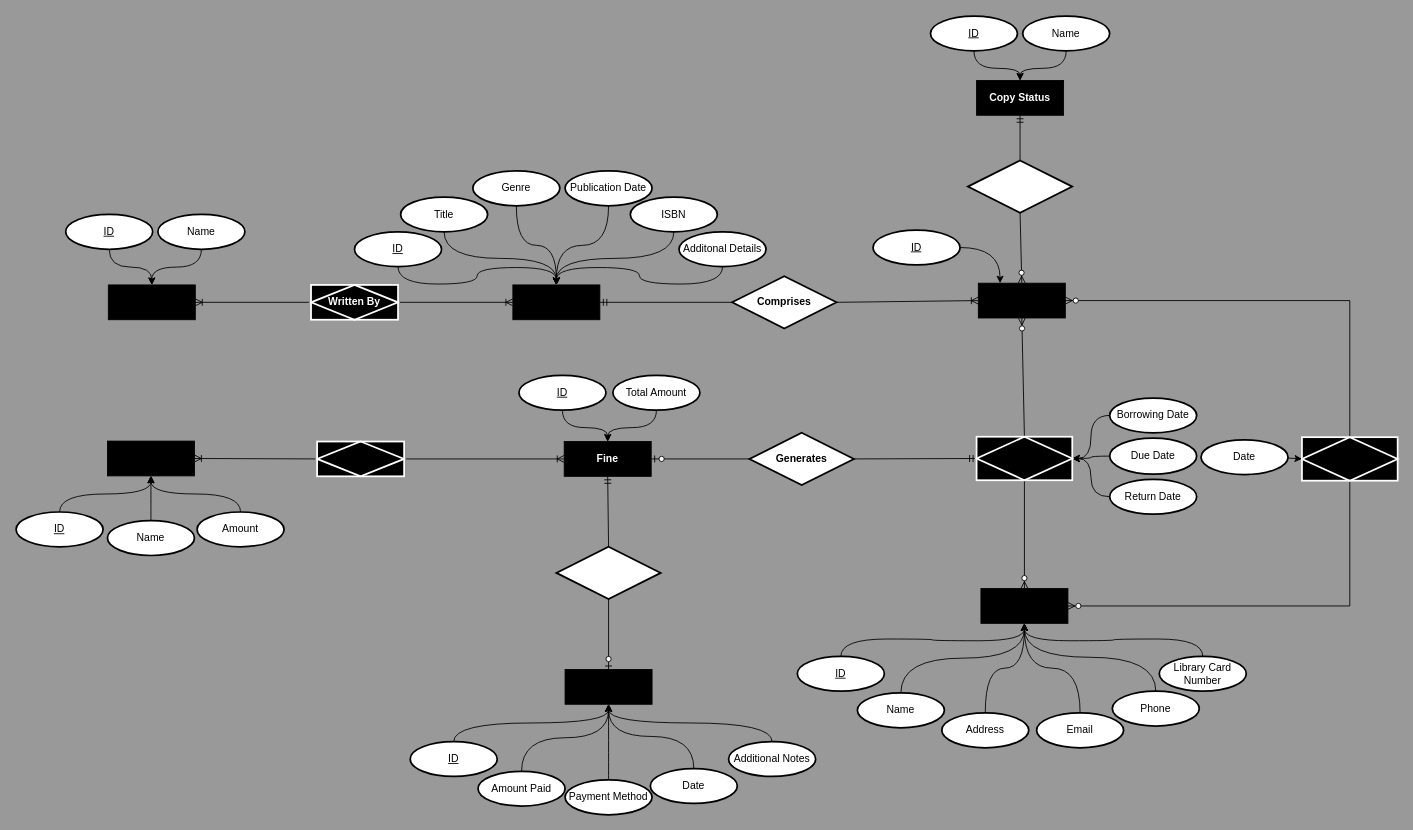
Image size: 1413x830. Some labels were removed from this diagram. The centre of each missing label's shape, as x and y in pixels:
"Author" belongs at point 151,302.
"Book" belongs at point 556,302.
"Book Copy" belongs at point 1021,300.
"Borrows" belongs at point 1024,458.
"Cause" belongs at point 360,458.
"Fine Cause" belongs at point 150,458.
"Is in status" belongs at point 1020,186.
"Is settled by" belongs at point 608,572.
"Payment" belongs at point 608,686.
"Reserves" belongs at point 1349,458.
"User" belongs at point 1024,605.
